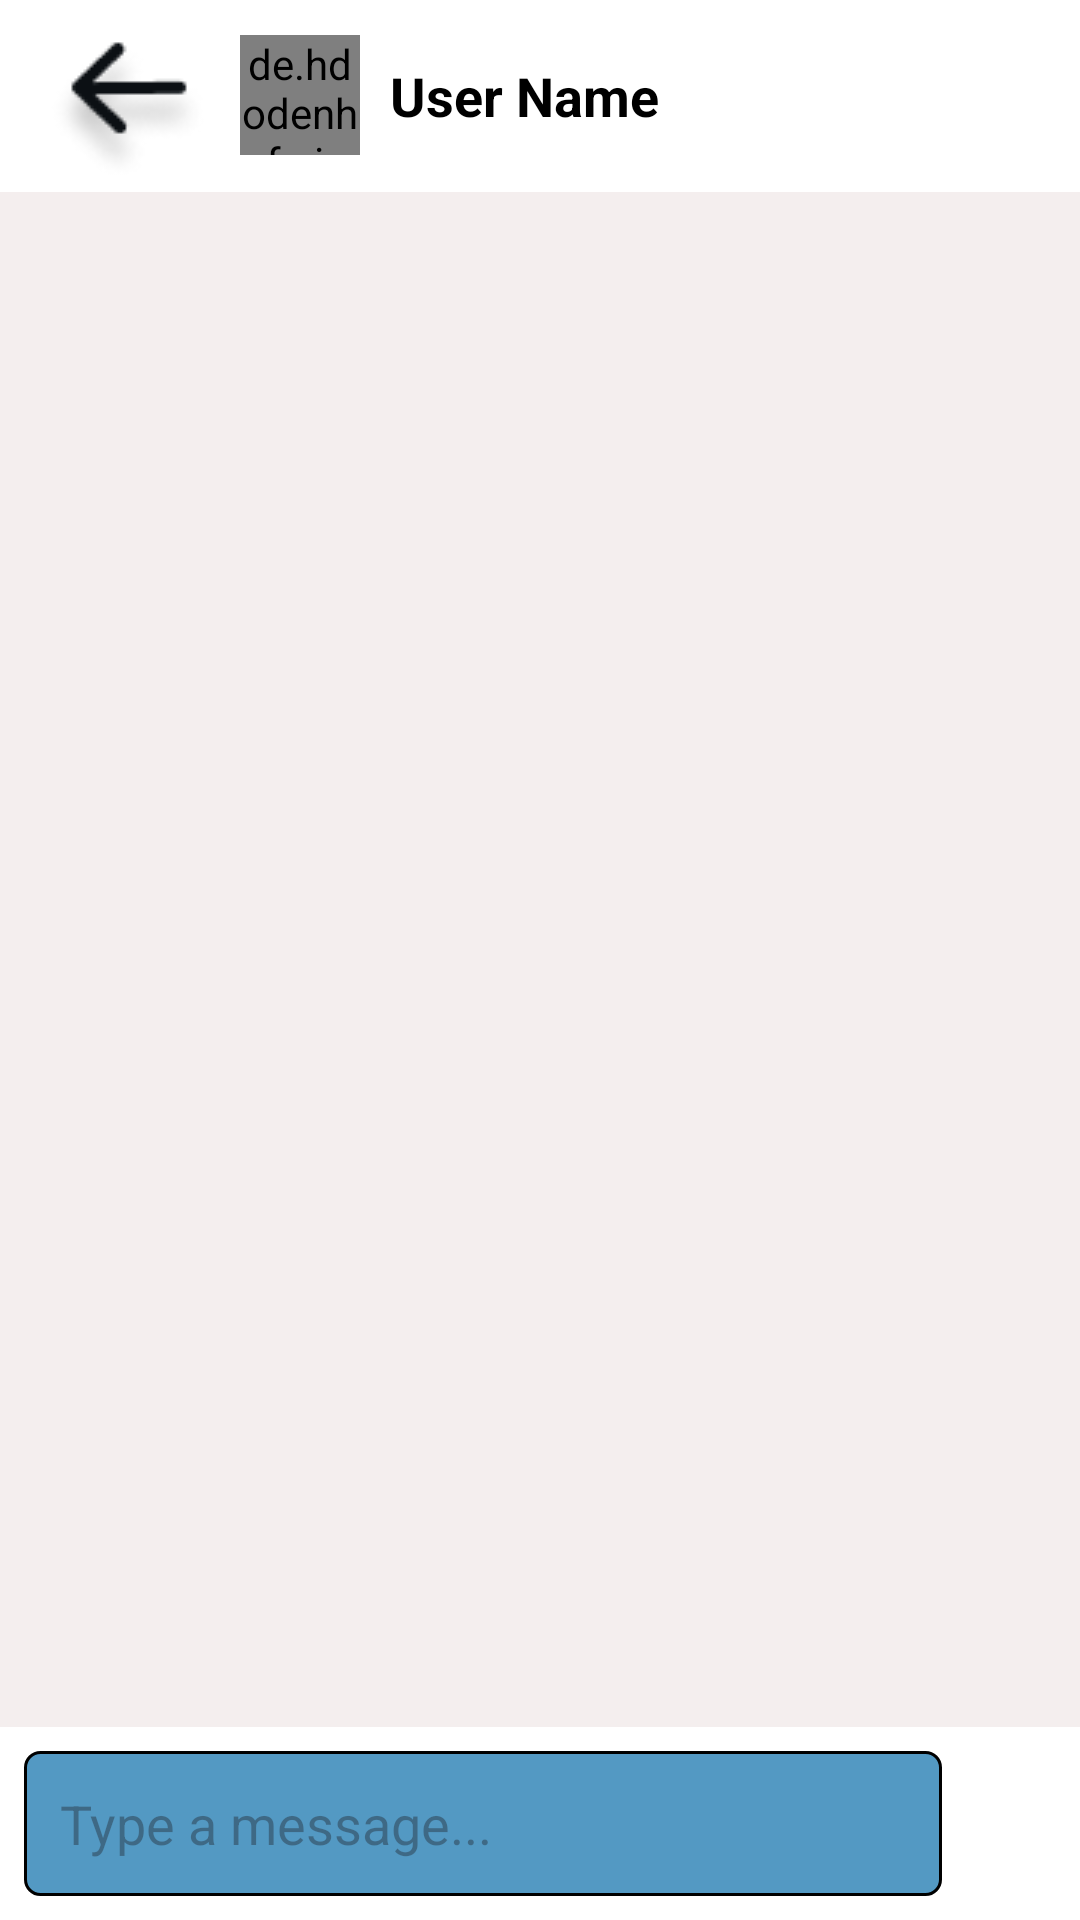

Point at icon controls on the screen. Image size 1080w x 1920h, points as (x,y).
back: (129,94)
